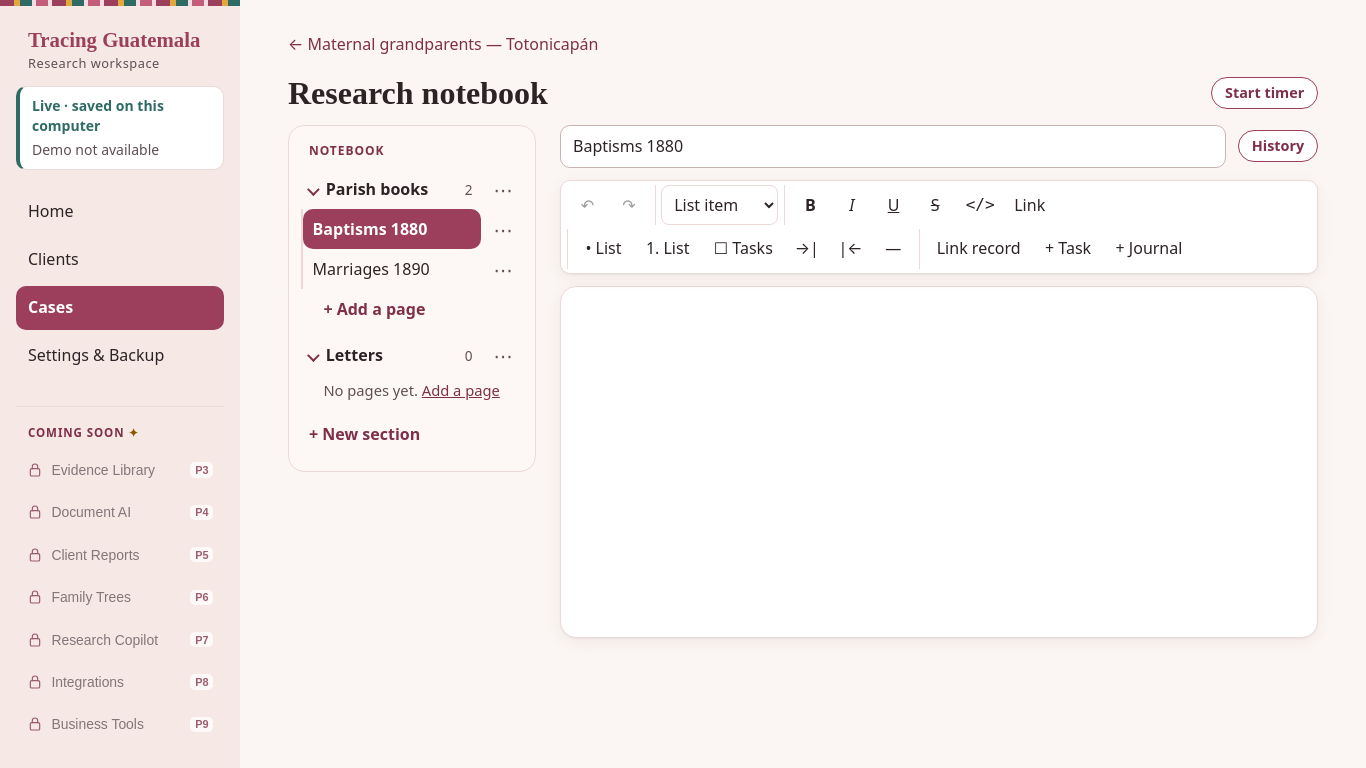
Test: organizing sections and pages › renames the open page from its title field
Expected: the link "Baptisms 1880" is shown, [303,209,481,249]
Replace the text in the field named "Page title" with "Baptisms 1880 to 1885" at coordinates (893, 146), box [560,125,1226,168]
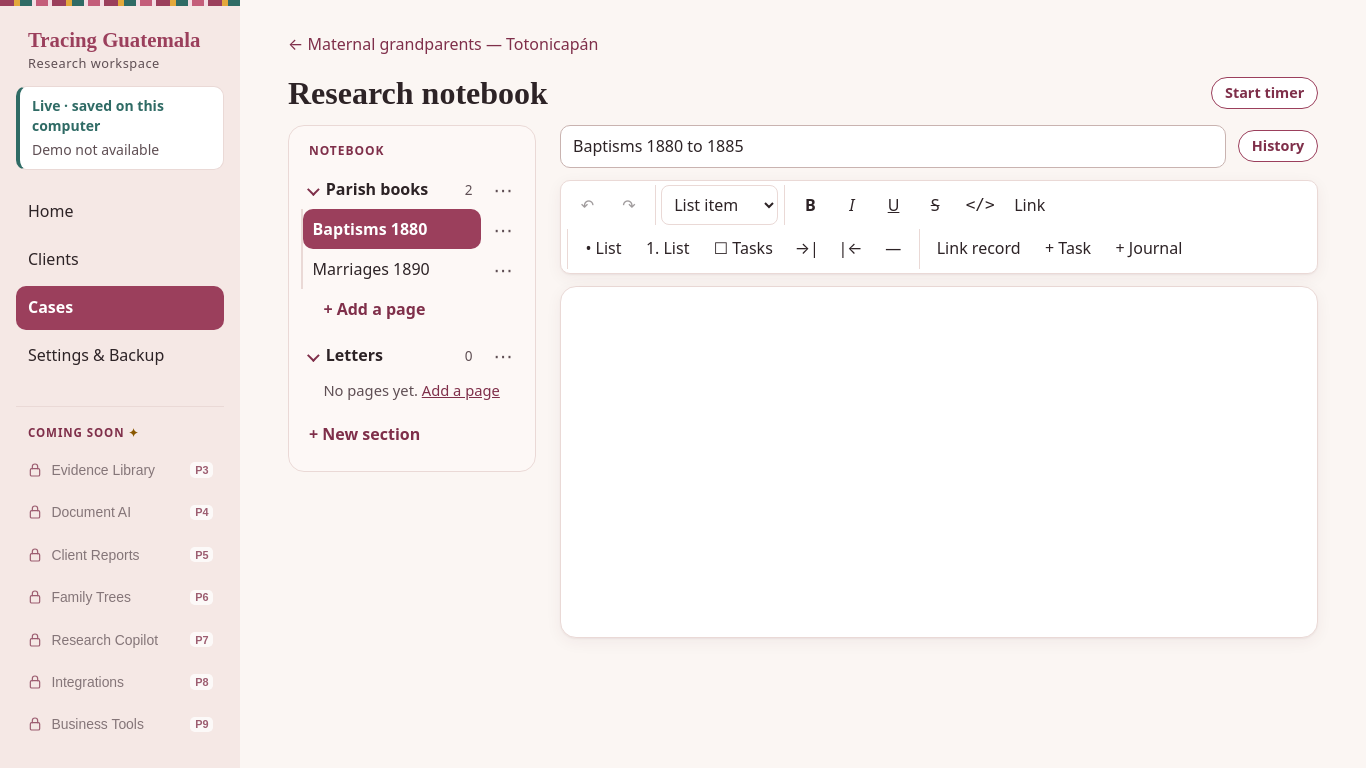
Leave the field named "Page title", box [560,125,1226,168]
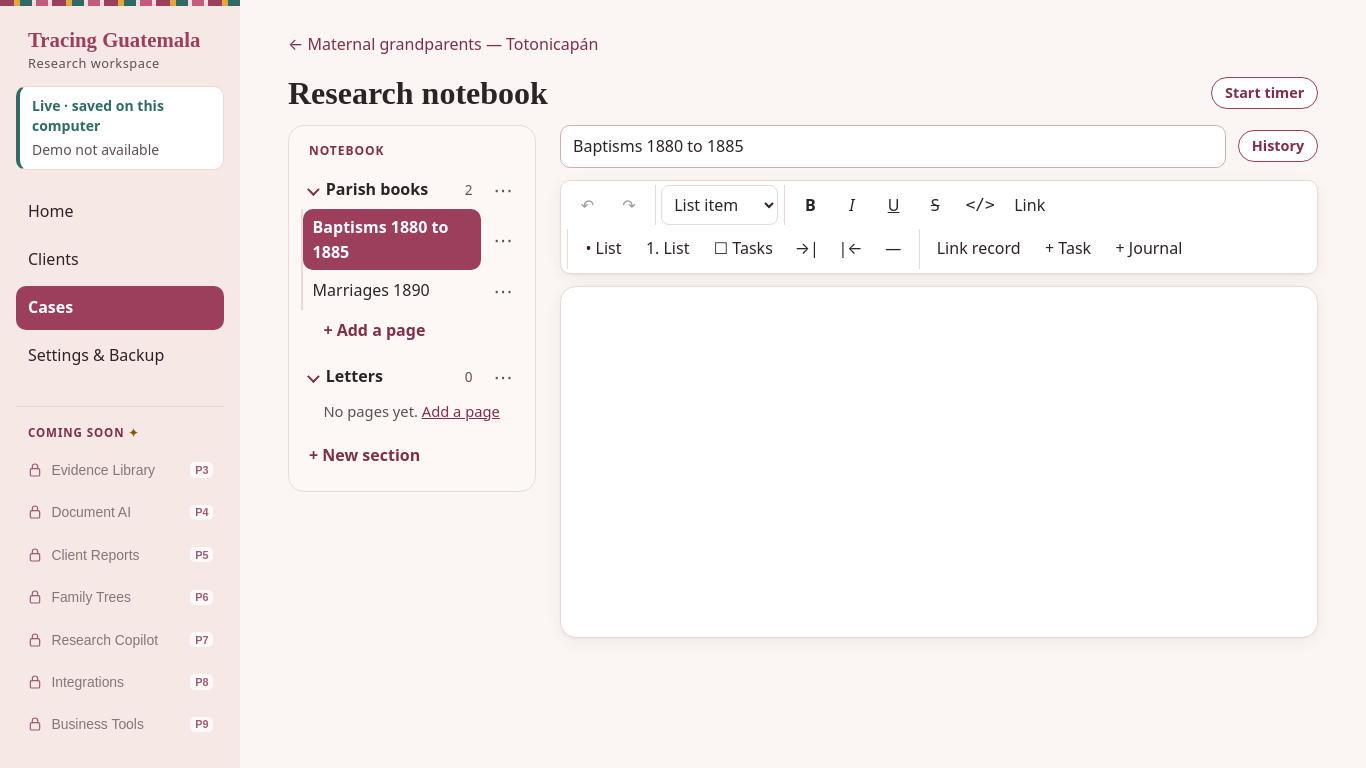
Now the link "Baptisms 1880 to 1885" is shown, box [303,209,481,270]
